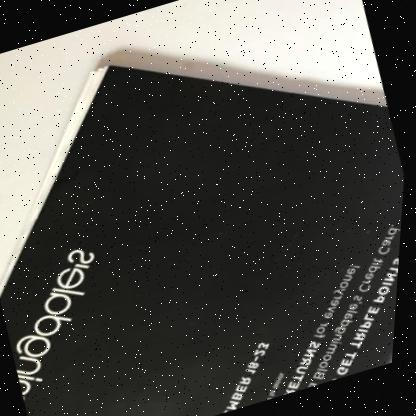Paper: (0, 46, 407, 416)
